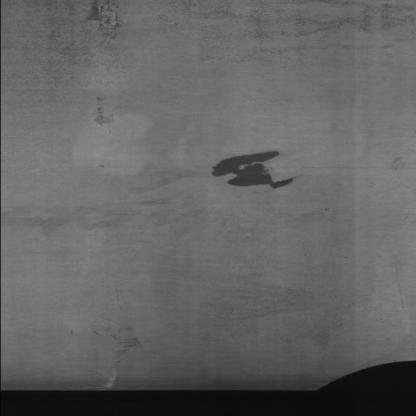crescent_gap: (279, 350, 416, 393)
oil_spot: (204, 146, 295, 193)
rolled_pit: (80, 317, 152, 389)
